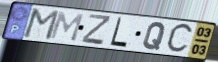C: (164, 22, 195, 55)
L: (109, 16, 129, 49)
M: (21, 8, 61, 42), (48, 11, 86, 43)
Q: (142, 21, 168, 51)
Z: (80, 13, 113, 47)
